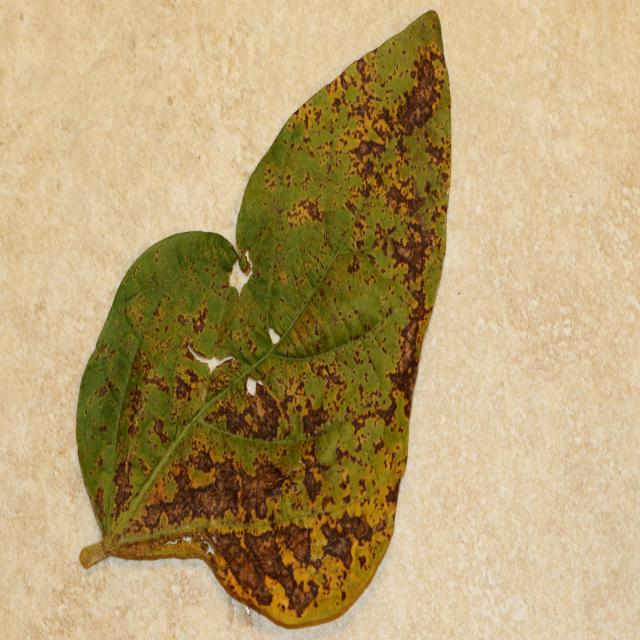Bacterial_Blight: (214, 413, 287, 481), (310, 443, 375, 514), (216, 378, 289, 441), (212, 532, 274, 606), (395, 51, 443, 137), (147, 468, 202, 534), (168, 359, 216, 423), (231, 462, 281, 522), (190, 462, 238, 524), (386, 223, 435, 280), (343, 85, 387, 141), (318, 519, 362, 572), (383, 176, 428, 223), (390, 322, 421, 387), (324, 201, 355, 256), (112, 455, 135, 521), (281, 523, 313, 570), (368, 387, 401, 431), (334, 511, 375, 546), (284, 574, 318, 616), (314, 425, 347, 468), (390, 391, 411, 446), (300, 401, 332, 437), (348, 136, 378, 174), (288, 194, 324, 225), (123, 294, 148, 332), (141, 371, 172, 397), (302, 468, 324, 504), (128, 458, 150, 494), (188, 447, 214, 475), (142, 500, 166, 530), (189, 300, 210, 334), (303, 375, 325, 407), (187, 466, 215, 491), (264, 163, 285, 193), (174, 373, 195, 402), (223, 406, 243, 435), (151, 416, 169, 444), (164, 475, 177, 501), (94, 382, 110, 399), (177, 313, 189, 329), (97, 423, 108, 434), (114, 320, 119, 328), (431, 22, 436, 30)
Soybean: (74, 11, 452, 631)
